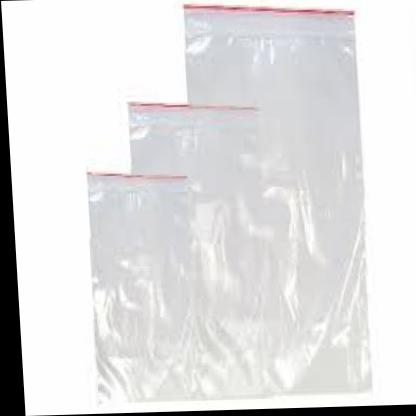Plastic: (163, 0, 382, 413), (110, 82, 282, 414), (74, 150, 202, 414)
